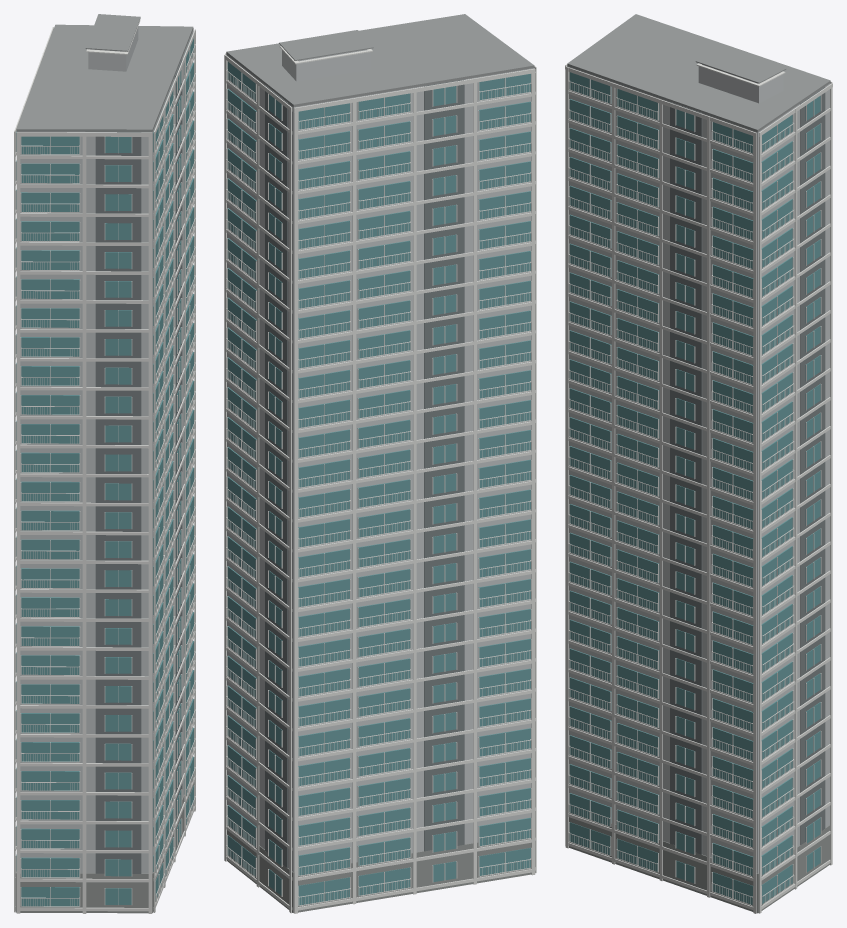
The model's file is bespoke-jamsil-ricenz-216.glb.
3 renders of one model, left to right at view 1: azimuth 30°, elevation 25°; view 2: azimuth 150°, elevation 25°; view 3: azimuth 270°, elevation 25°, orthographic. The views are drawn at different scales.
Visible parts, largest first — view 1: Ricenz216_editable_Ricenz216_turquoise_balcony_glazing, Ricenz216_white_exact_chunk_1, Ricenz216_editable_Ricenz216_light_grey_solid_wall, Ricenz216_editable_Ricenz216_narrow_charcoal_service_strips, Ricenz216_white_exact_chunk_2, Ricenz216_editable_Ricenz216_modest_grey_flat_roof_caps, Ricenz216_white_exact_chunk_3, Ricenz216_editable_Ricenz216_muted_ground_wall; view 2: Ricenz216_editable_Ricenz216_turquoise_balcony_glazing, Ricenz216_editable_Ricenz216_light_grey_solid_wall, Ricenz216_white_exact_chunk_0, Ricenz216_white_exact_chunk_1, Ricenz216_editable_Ricenz216_narrow_charcoal_service_strips, Ricenz216_white_exact_chunk_3, Ricenz216_editable_Ricenz216_modest_grey_flat_roof_caps, Ricenz216_editable_Ricenz216_muted_ground_wall; view 3: Ricenz216_editable_Ricenz216_turquoise_balcony_glazing, Ricenz216_editable_Ricenz216_light_grey_solid_wall, Ricenz216_white_exact_chunk_3, Ricenz216_white_exact_chunk_2, Ricenz216_editable_Ricenz216_narrow_charcoal_service_strips, Ricenz216_editable_Ricenz216_modest_grey_flat_roof_caps, Ricenz216_white_exact_chunk_1, Ricenz216_editable_Ricenz216_muted_ground_wall.
Part boxes in pixels (box(x1,y1,x2,y2)): Ricenz216_editable_Ricenz216_turquoise_balcony_glazing: box(16, 38, 193, 906); Ricenz216_white_exact_chunk_1: box(14, 27, 164, 913); Ricenz216_editable_Ricenz216_light_grey_solid_wall: box(17, 27, 193, 873); Ricenz216_editable_Ricenz216_narrow_charcoal_service_strips: box(95, 59, 182, 873); Ricenz216_white_exact_chunk_2: box(153, 68, 195, 882); Ricenz216_editable_Ricenz216_modest_grey_flat_roof_caps: box(16, 14, 193, 131); Ricenz216_white_exact_chunk_3: box(86, 20, 195, 912); Ricenz216_editable_Ricenz216_muted_ground_wall: box(15, 776, 194, 913); Ricenz216_editable_Ricenz216_turquoise_balcony_glazing: box(227, 62, 530, 905); Ricenz216_editable_Ricenz216_light_grey_solid_wall: box(226, 49, 534, 872); Ricenz216_white_exact_chunk_0: box(298, 86, 531, 910); Ricenz216_white_exact_chunk_1: box(294, 66, 536, 913); Ricenz216_editable_Ricenz216_narrow_charcoal_service_strips: box(265, 79, 464, 867); Ricenz216_white_exact_chunk_3: box(224, 46, 372, 913); Ricenz216_editable_Ricenz216_modest_grey_flat_roof_caps: box(226, 14, 534, 107); Ricenz216_editable_Ricenz216_muted_ground_wall: box(227, 825, 531, 912); Ricenz216_editable_Ricenz216_turquoise_balcony_glazing: box(569, 72, 820, 904); Ricenz216_editable_Ricenz216_light_grey_solid_wall: box(567, 64, 830, 873); Ricenz216_white_exact_chunk_3: box(565, 63, 832, 913); Ricenz216_white_exact_chunk_2: box(568, 72, 753, 909); Ricenz216_editable_Ricenz216_narrow_charcoal_service_strips: box(670, 87, 825, 854); Ricenz216_editable_Ricenz216_modest_grey_flat_roof_caps: box(567, 14, 830, 132); Ricenz216_white_exact_chunk_1: box(565, 64, 832, 860); Ricenz216_editable_Ricenz216_muted_ground_wall: box(569, 812, 829, 913).
Bounding box in the file's own units: 25.92 × 82.73 × 24.93.
